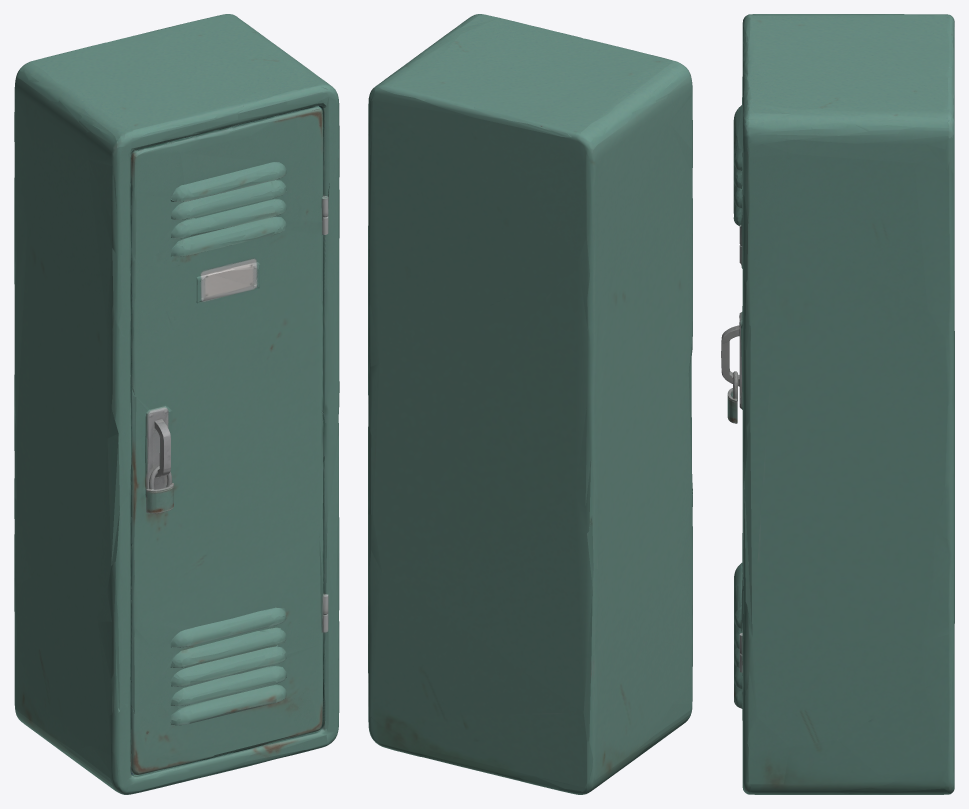
Rendered from armadietto_anta.glb.
3 views of the same model, side by side, from view 1: azimuth 30°, elevation 25°; view 2: azimuth 150°, elevation 25°; view 3: azimuth 270°, elevation 25° (orthographic). The views are drawn at different scales.
Visible parts, largest first — view 1: Mesh_0; view 2: Mesh_0; view 3: Mesh_0.
Boxes of the visible parts, bbox=[...] form: Mesh_0: bbox=[14, 14, 339, 794]; Mesh_0: bbox=[368, 14, 692, 794]; Mesh_0: bbox=[721, 14, 954, 794].
Size of the model in its own units: 0.6838 by 1.9 by 0.5909.
Materials: 1 (1 with a texture image).
